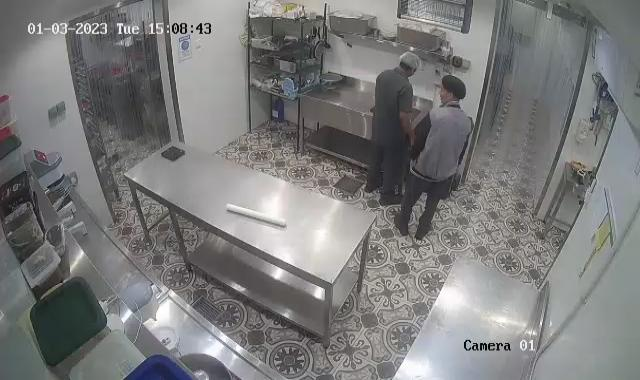hairnet: (396, 51, 423, 73)
no_hairnet: (439, 76, 466, 102)
